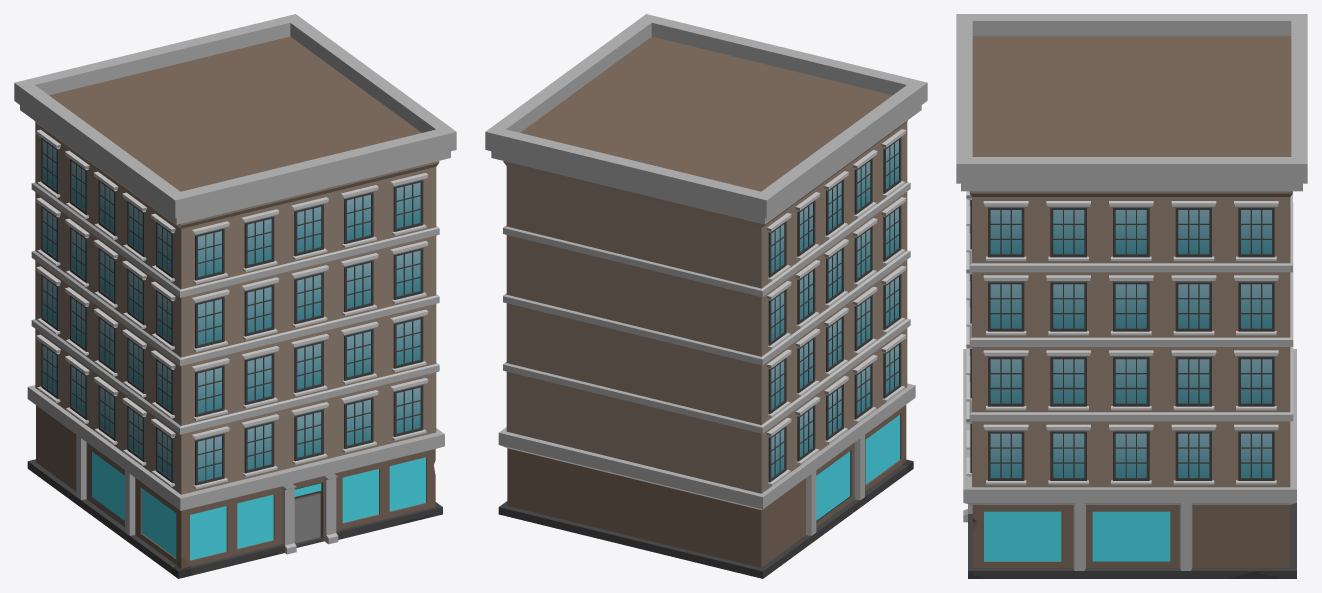
Rendered from SM_Buildings_Office_01.fbx.
3 views of the same model, side by side, from view 1: azimuth 30°, elevation 25°; view 2: azimuth 150°, elevation 25°; view 3: azimuth 270°, elevation 25° (orthographic). The views are drawn at different scales.
Parts seen in each view (by area): view 1: SM_Buildings_Office_01; view 2: SM_Buildings_Office_01; view 3: SM_Buildings_Office_01.
Part boxes in pixels (x1,y1,x2,y2): SM_Buildings_Office_01: [14, 14, 456, 578]; SM_Buildings_Office_01: [485, 14, 927, 578]; SM_Buildings_Office_01: [956, 14, 1307, 578].
Size of the model in its own units: 12.76 by 16.65 by 12.63.
